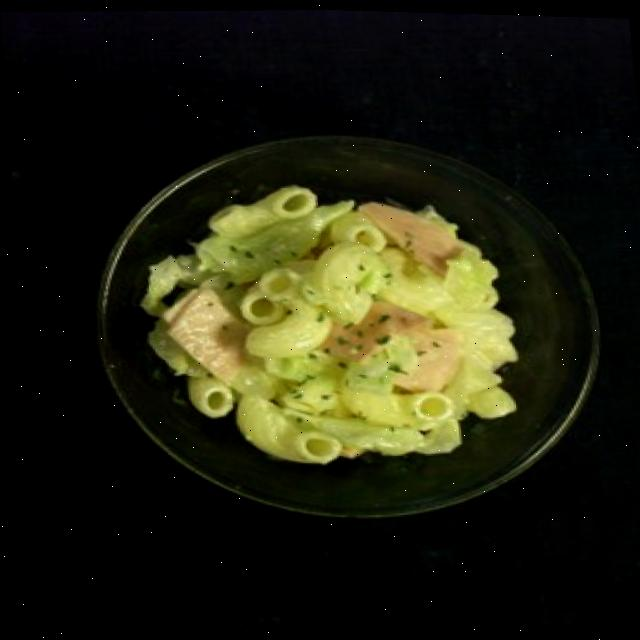蔬菜料理: (67, 120, 611, 530)
